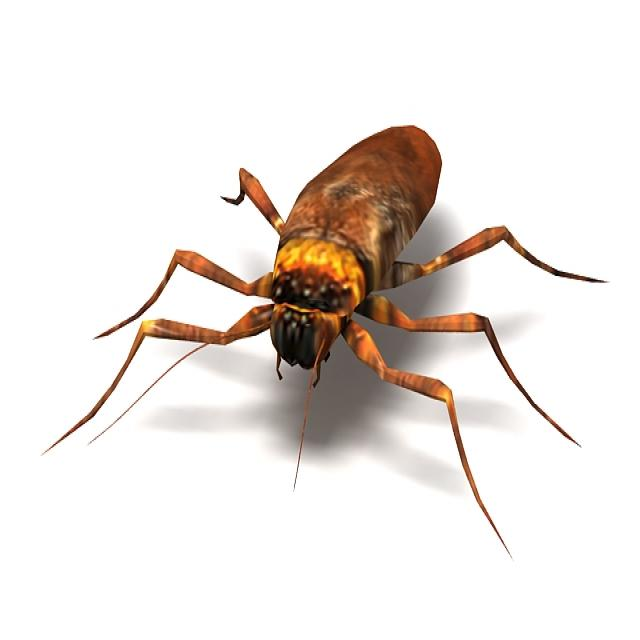Cockroach: (36, 103, 610, 569)
